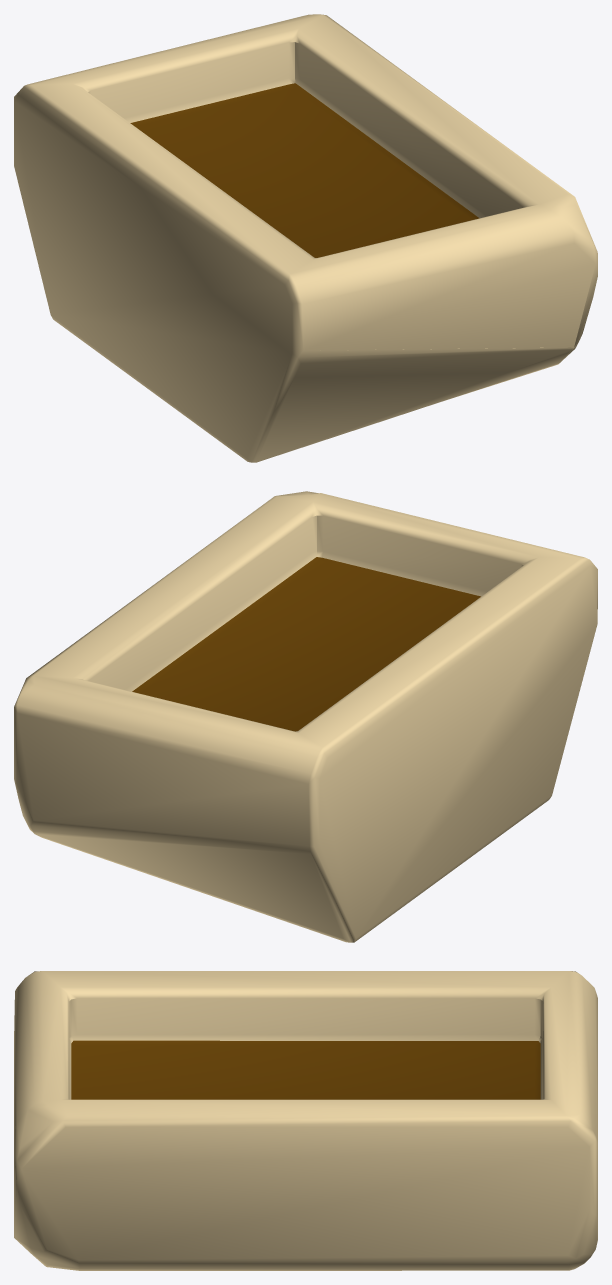
The model's file is Module_Window_Planter_Short_01_LOD01.fbx.
The picture shows the model from 3 angles, top to bottom: view 1: azimuth 30°, elevation 25°; view 2: azimuth 150°, elevation 25°; view 3: azimuth 270°, elevation 25°; orthographic projection. The views are drawn at different scales.
Parts seen in each view (by area): view 1: Module_Window_Planter_Short_01_LOD01_Geometry; view 2: Module_Window_Planter_Short_01_LOD01_Geometry; view 3: Module_Window_Planter_Short_01_LOD01_Geometry.
Boxes of the visible parts, <box> form: Module_Window_Planter_Short_01_LOD01_Geometry: <box>14,14,597,462</box>; Module_Window_Planter_Short_01_LOD01_Geometry: <box>14,491,597,942</box>; Module_Window_Planter_Short_01_LOD01_Geometry: <box>14,971,597,1270</box>.
Bounding box in the file's own units: 0.656 × 0.4408 × 1.06.
